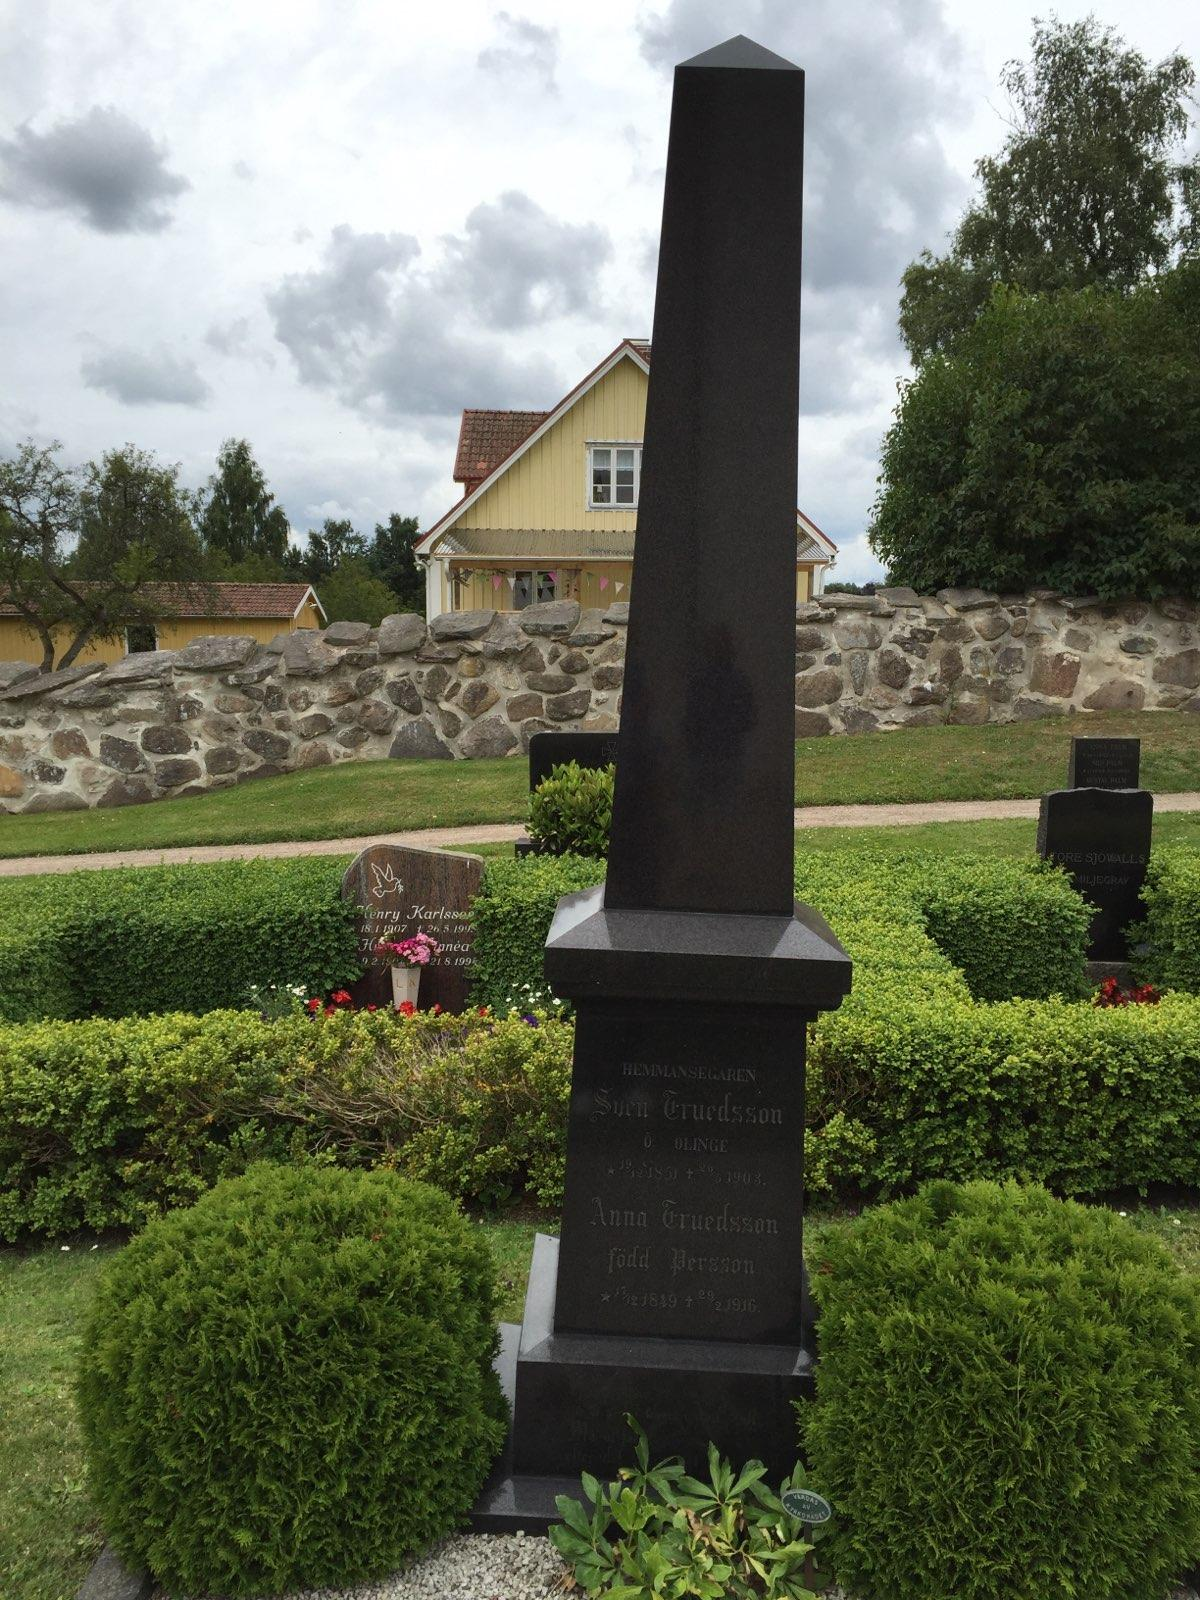obelisk: (451, 33, 862, 1550)
